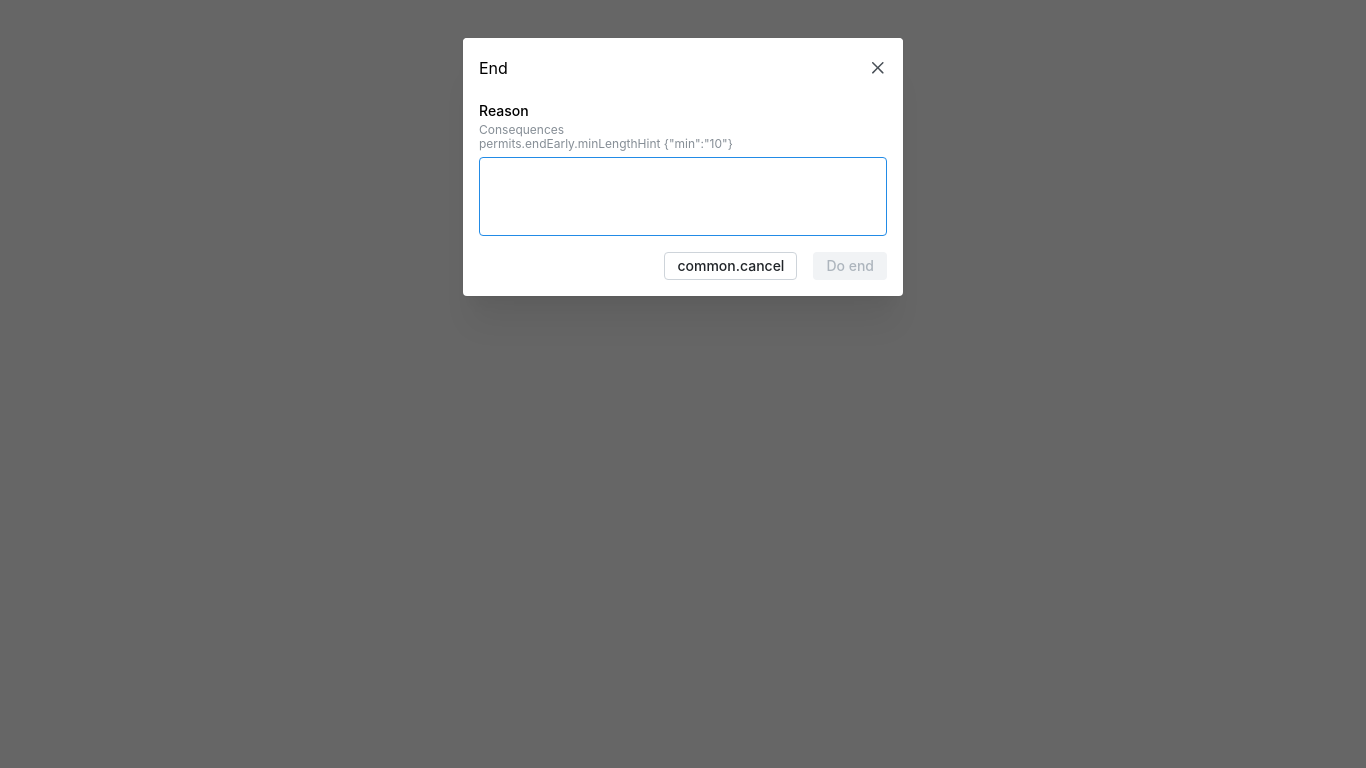
Test: EndEarlyModal: підказка мінімальної довжини причини (KI-04) › 9 символів: підказка лишається; 10: зникає, кнопка вмикається
Type "123456789" into the text box labelled "Reason" at point(683, 196), box x1=479 y1=157 x2=887 y2=236
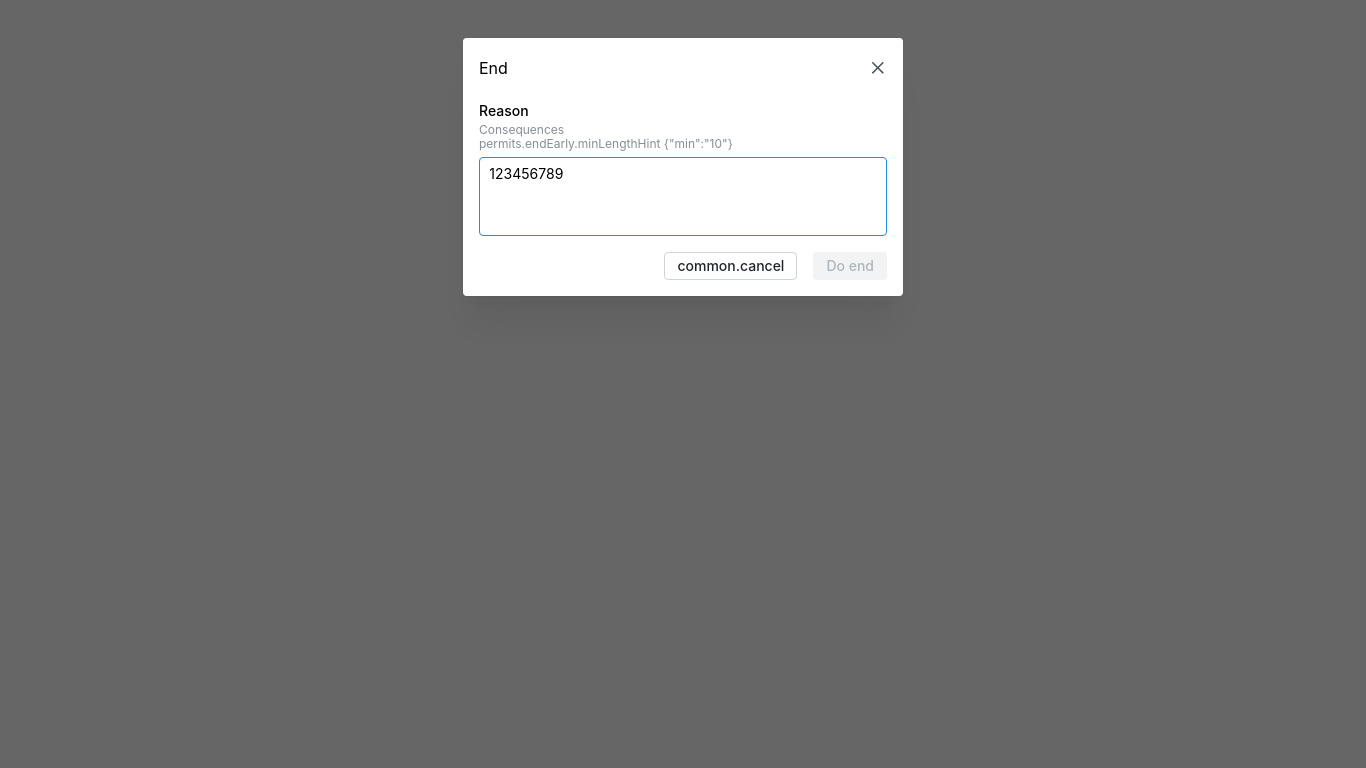
Expected: the text "permits.endEarly.minLengthHint {\"min\":\"10\"}" is shown, x1=479 y1=137 x2=733 y2=152
Expected: the button "Do end" is disabled, x1=813 y1=252 x2=887 y2=280
Replace the text in the text box labelled "Reason" with "1234567890" at point(683, 196), box x1=479 y1=157 x2=887 y2=236
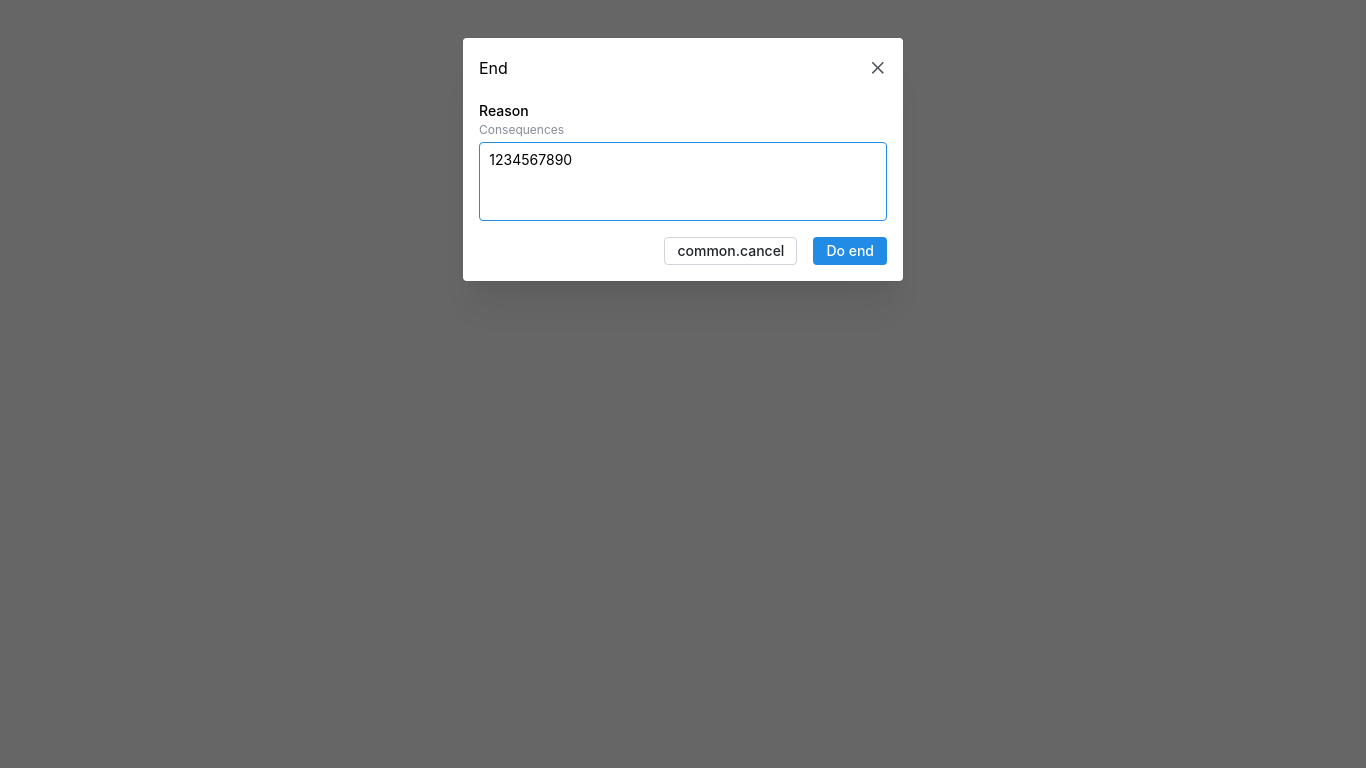
Now the text with test id "end-reason-hint" is gone
Now the button "Do end" is enabled, box x1=813 y1=238 x2=887 y2=266
